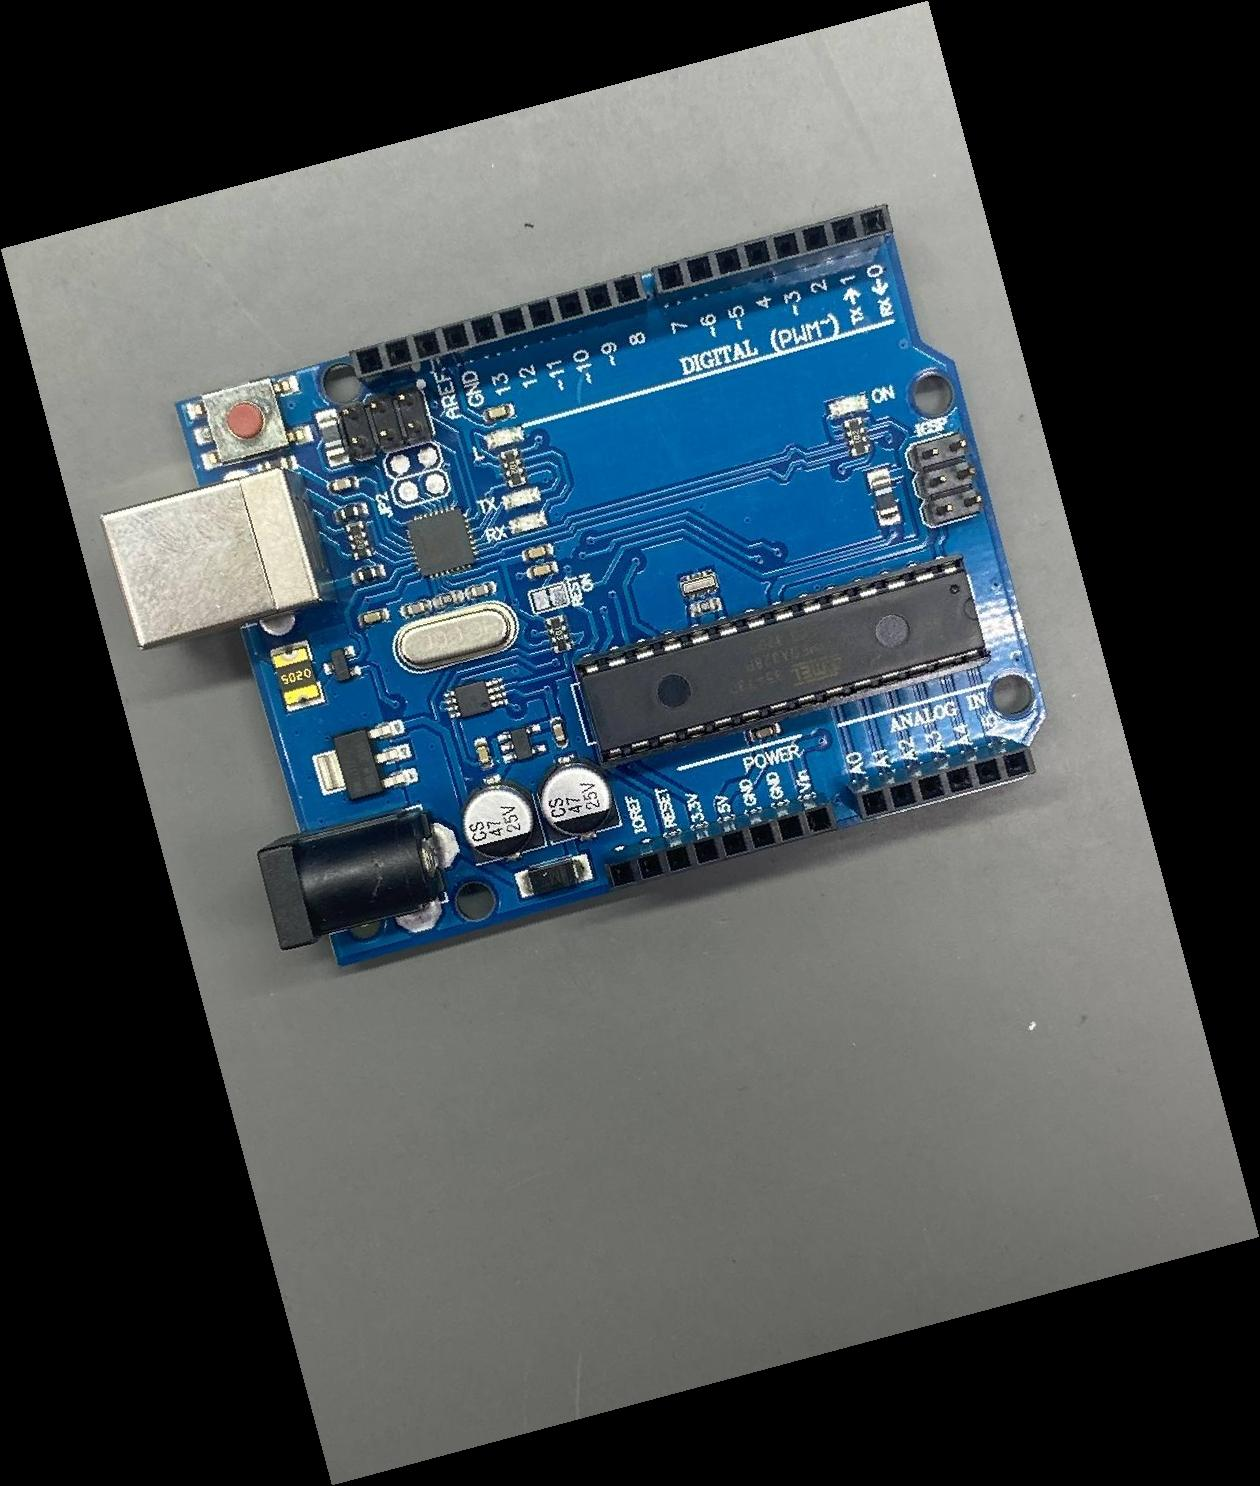ATmega328 chip: (574, 549, 992, 767)
Arduino board: (95, 205, 1046, 969)
USB: (102, 466, 321, 651)
capacitor: (538, 767, 615, 838), (462, 786, 535, 860)
pins: (345, 267, 651, 379), (651, 202, 894, 301), (599, 801, 841, 893), (852, 746, 1041, 821)
resistor: (497, 447, 528, 489), (344, 519, 374, 561), (545, 614, 574, 654), (843, 416, 871, 456)
